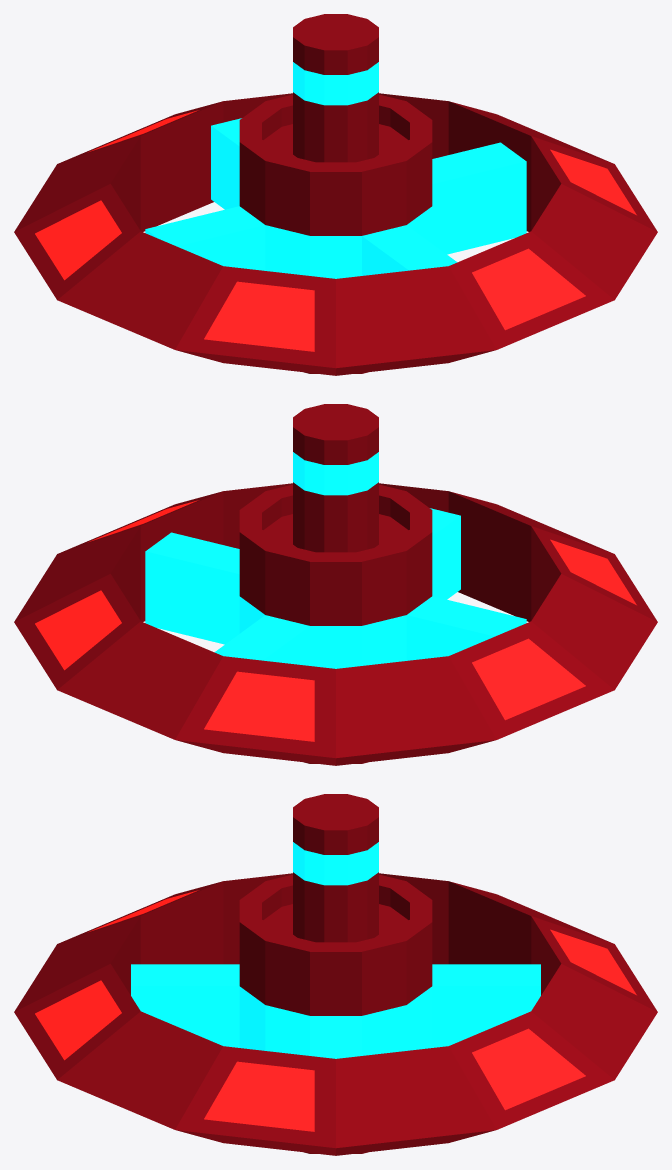
Rendered from Enemy.glb.
3 views of the same model, one above another, from view 1: azimuth 30°, elevation 25°; view 2: azimuth 150°, elevation 25°; view 3: azimuth 270°, elevation 25° (orthographic).
Parts seen in each view (by area): view 1: Cylinder; view 2: Cylinder; view 3: Cylinder.
Part boxes in pixels (box(x1,y1,x2,y2)): Cylinder: box(14, 14, 657, 375); Cylinder: box(14, 404, 657, 765); Cylinder: box(14, 794, 657, 1155).
Size of the model in its own units: 4.37 by 2.26 by 4.37.
